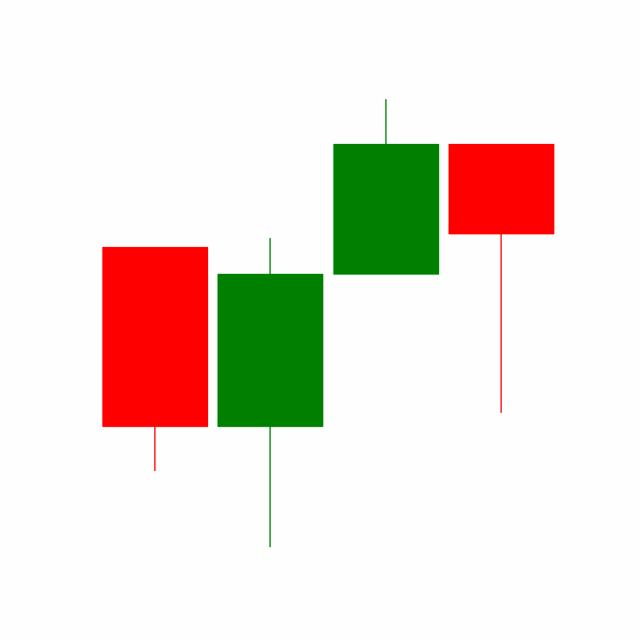Hammer: (443, 141, 559, 416)
